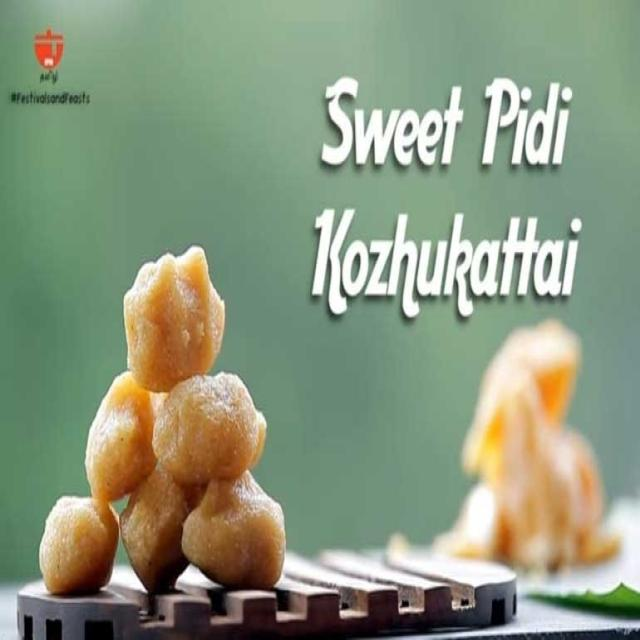pidi kolukattai: (23, 255, 285, 613)
